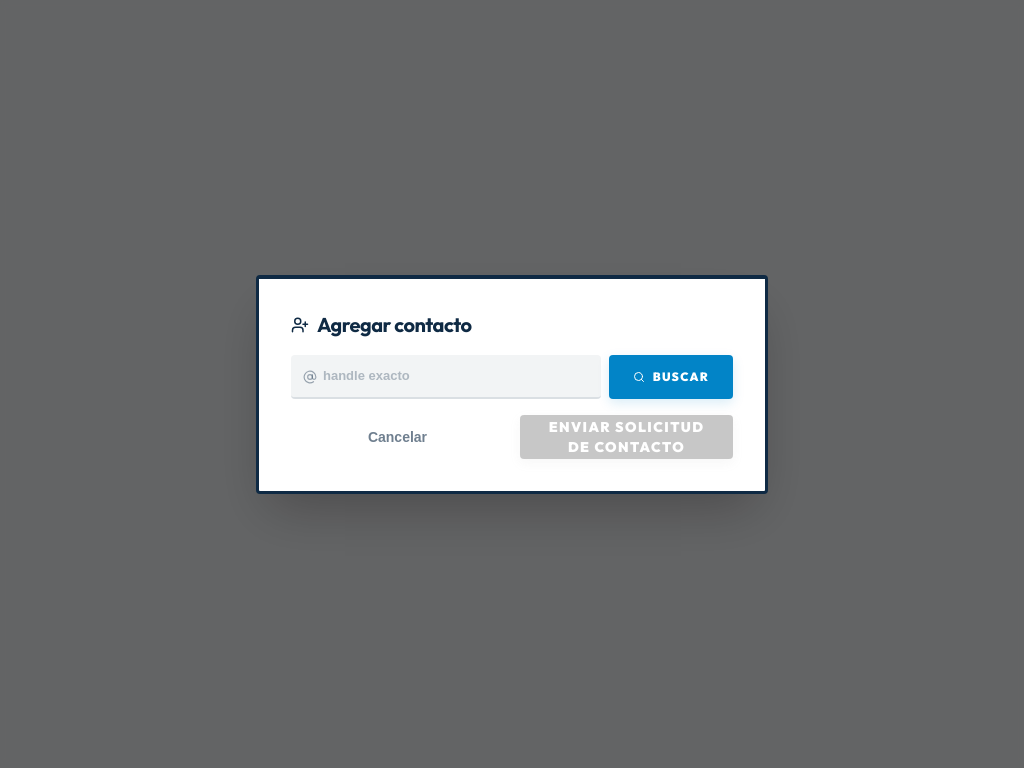
it: AddContactModal › Enter busca; un 404 se explica y al editar se limpia
The image size is (1024, 768).
Type "nadie" into the field with test id "add-contact-input" at (446, 376), box x1=291 y1=354 x2=601 y2=398
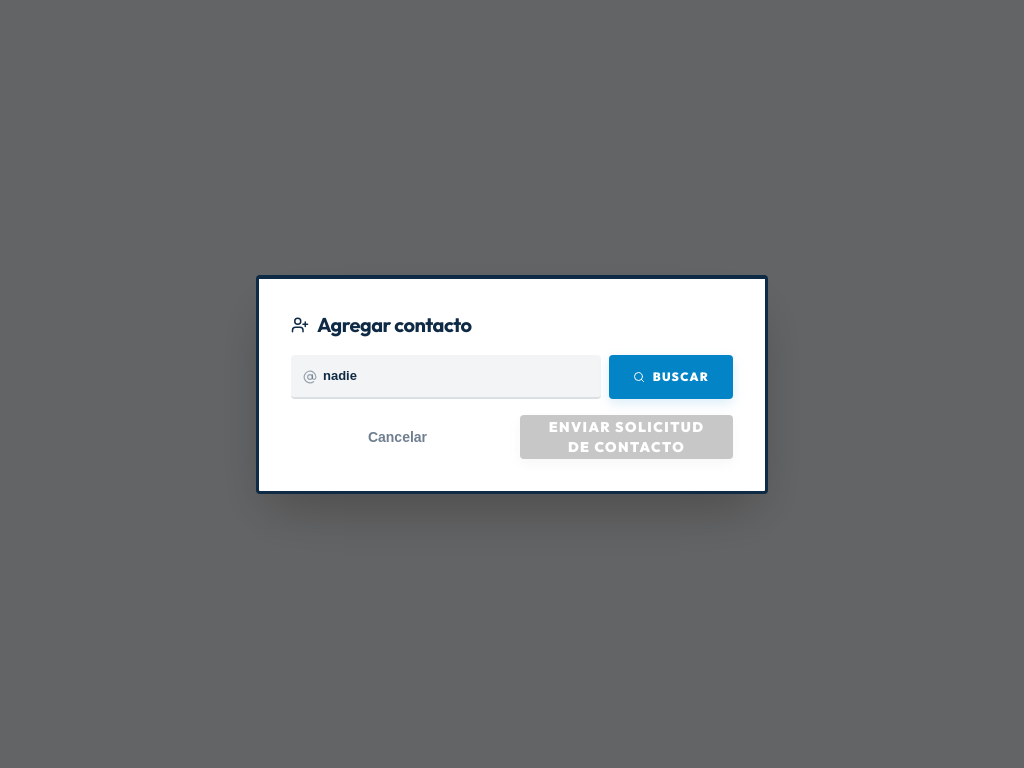
Press Enter in the field with test id "add-contact-input", box x1=291 y1=354 x2=601 y2=398
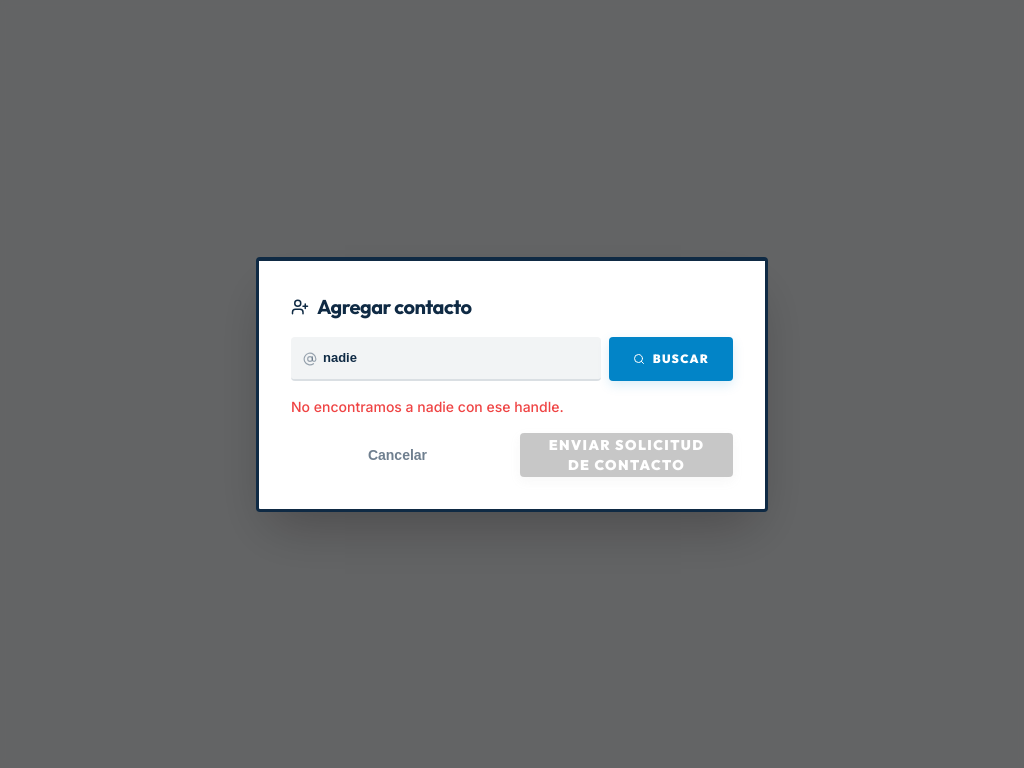
expect the message with test id "add-contact-error" shows "No encontramos": met, box x1=291 y1=398 x2=564 y2=414
Press a in the field with test id "add-contact-input", box x1=291 y1=336 x2=601 y2=380
Replace the text in the field with test id "add-contact-input" with "nadie2" at (446, 358), box x1=291 y1=336 x2=601 y2=380
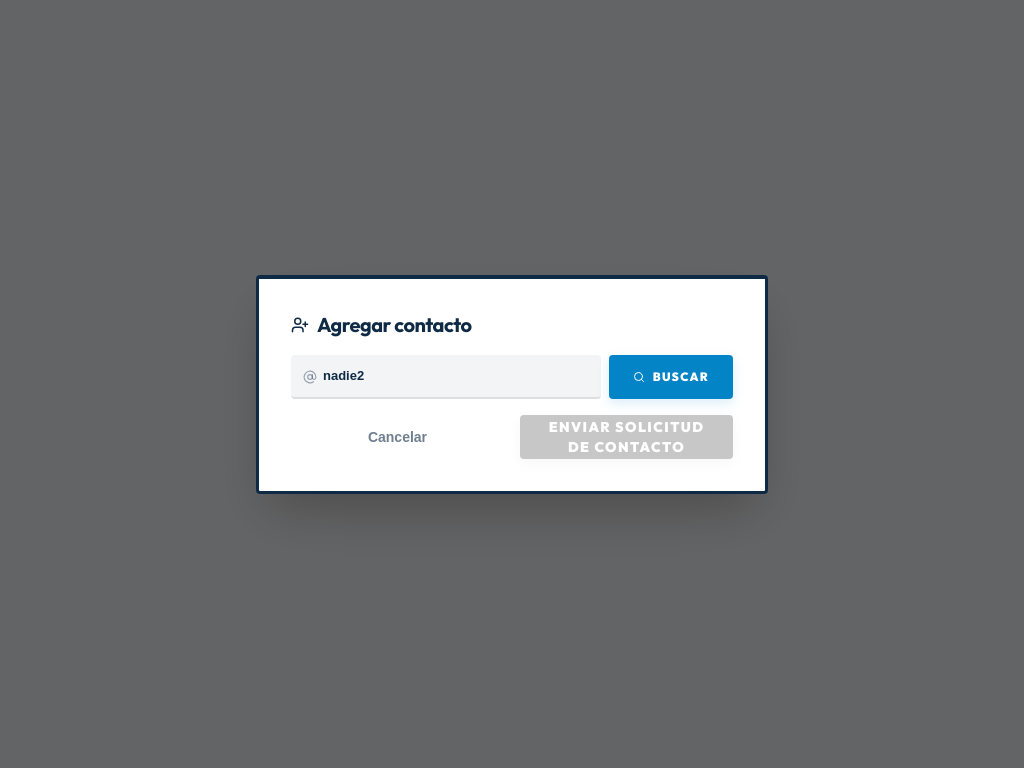
expect the message with test id "add-contact-error" is gone: met
